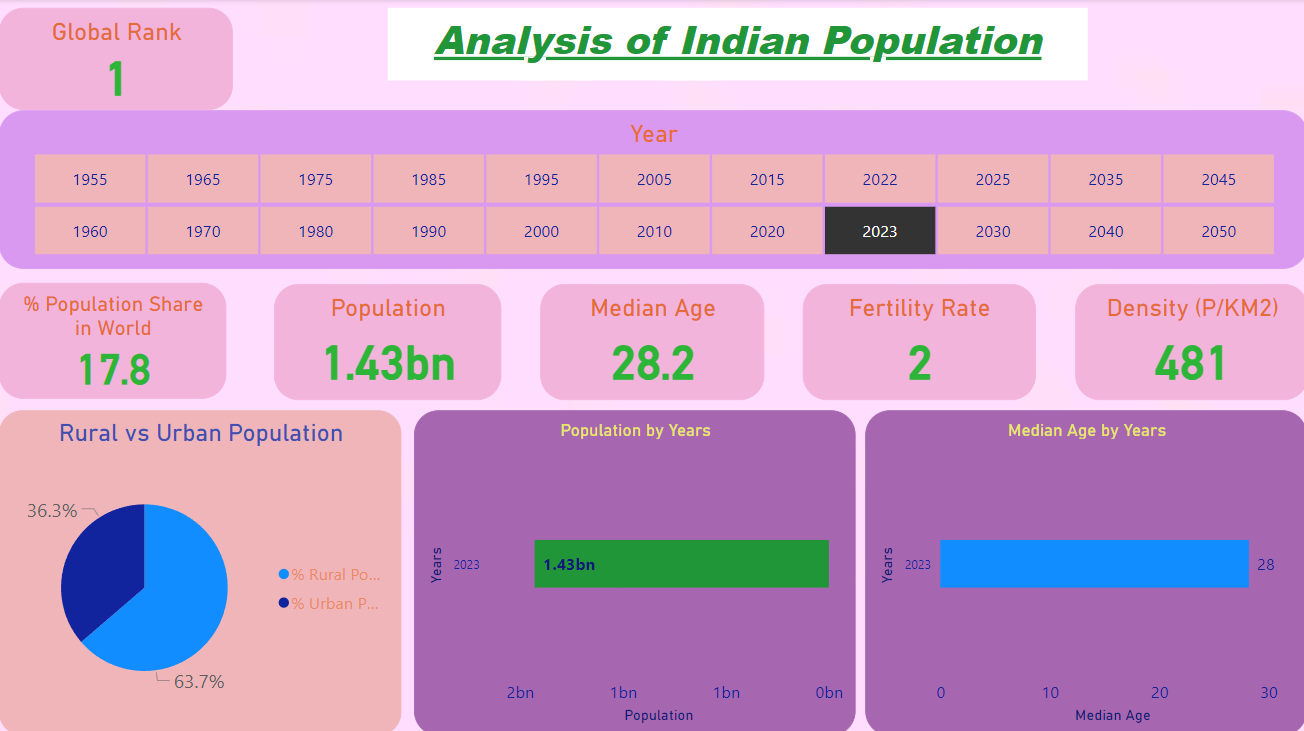

This screenshot's page, from the dashboard's own definition file:
{"tool":"powerbi","page":{"name":"Page 1","canvas":[1280,720],"ordinal":0},"visuals":[{"type":"slicer","title":"Year","fields":{"Values":["Sheet1.Year"]},"box":[0,108.8,1280.3,155.3],"z":0},{"type":"card","title":"Global Rank","fields":{"Values":["Min(Sheet1.Global Rank)"]},"box":[0,8.2,229.2,100.2],"z":1000},{"type":"card","title":"Population","fields":{"Values":["Avg(Sheet1.Population)"]},"box":[269,278.3,222.3,113.9],"z":2000},{"type":"card","title":"Fertility Rate","fields":{"Values":["Min(Sheet1.Fertility Rate)"]},"box":[786.3,278.3,227.8,113.9],"z":3000},{"type":"card","title":"Median Age","fields":{"Values":["Max(Sheet1.Median Age)"]},"box":[529.7,278.3,219.6,113.9],"z":4000},{"type":"card","title":"Density (P/KM2)","fields":{"Values":["Max(Sheet1.Density)"]},"box":[1052.5,278.3,227.8,113.9],"z":5000},{"type":"pieChart","title":"Rural vs Urban Population","fields":{"Y":["Sum(Sheet1.% Rural Population)","Sum(Sheet1.Urban Pop %)"]},"box":[0,402.1,393.8,318.4],"z":6000},{"type":"clusteredBarChart","fields":{"Category":["Sheet1.Years"],"Y":["Sum(Sheet1.Median_Age)"]},"box":[848,402.1,432.2,318.4],"z":7000},{"type":"barChart","fields":{"Category":["Sheet1.Years"],"Y":["Sum(Sheet1.Population)"]},"box":[406.2,402.1,432.2,318.4],"z":8000},{"type":"card","title":"% Population Share in World","fields":{"Values":["Max(Sheet1.Population Share in World)"]},"box":[0,277.7,222.3,113.9],"z":9000},{"type":"textbox","box":[380.1,8.2,684.7,71.4],"z":10000}]}

Visuals, with their boxes in screenshot pixels (x1, y1, x2, y2), scaled from the page's 1280x720 canvas onto the 1304x731 screenshot:
"Year" slicer: (0,110,1303,268)
"Global Rank" card: (0,8,233,110)
"Population" card: (274,283,501,398)
"Fertility Rate" card: (801,283,1033,398)
"Median Age" card: (540,283,763,398)
"Density (P/KM2)" card: (1072,283,1303,398)
"Rural vs Urban Population" pieChart: (0,408,401,730)
clusteredBarChart - Sheet1.Years x Sum(Sheet1.Median_Age): (864,408,1303,730)
barChart - Sheet1.Years x Sum(Sheet1.Population): (414,408,854,730)
"% Population Share in World" card: (0,282,226,398)
textbox: (387,8,1085,81)
